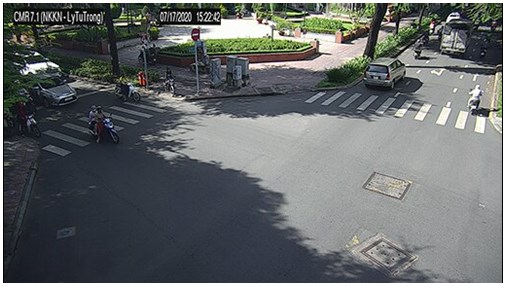xe_hoi: (364, 56, 407, 88), (32, 78, 78, 105), (445, 11, 461, 22)
xe_may: (88, 104, 120, 144), (17, 101, 40, 138), (116, 73, 141, 104), (162, 65, 177, 94), (468, 85, 482, 116), (478, 43, 489, 61), (413, 38, 422, 59), (422, 31, 429, 44), (428, 21, 435, 33)
xe_tai: (440, 21, 471, 57)
xe_taxi: (15, 51, 62, 78)
